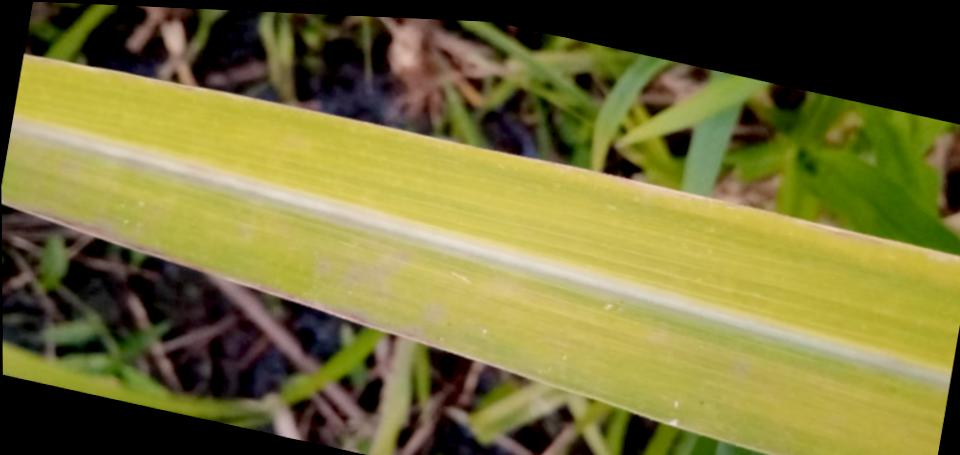Rust: (1, 196, 445, 347), (344, 246, 409, 301)
